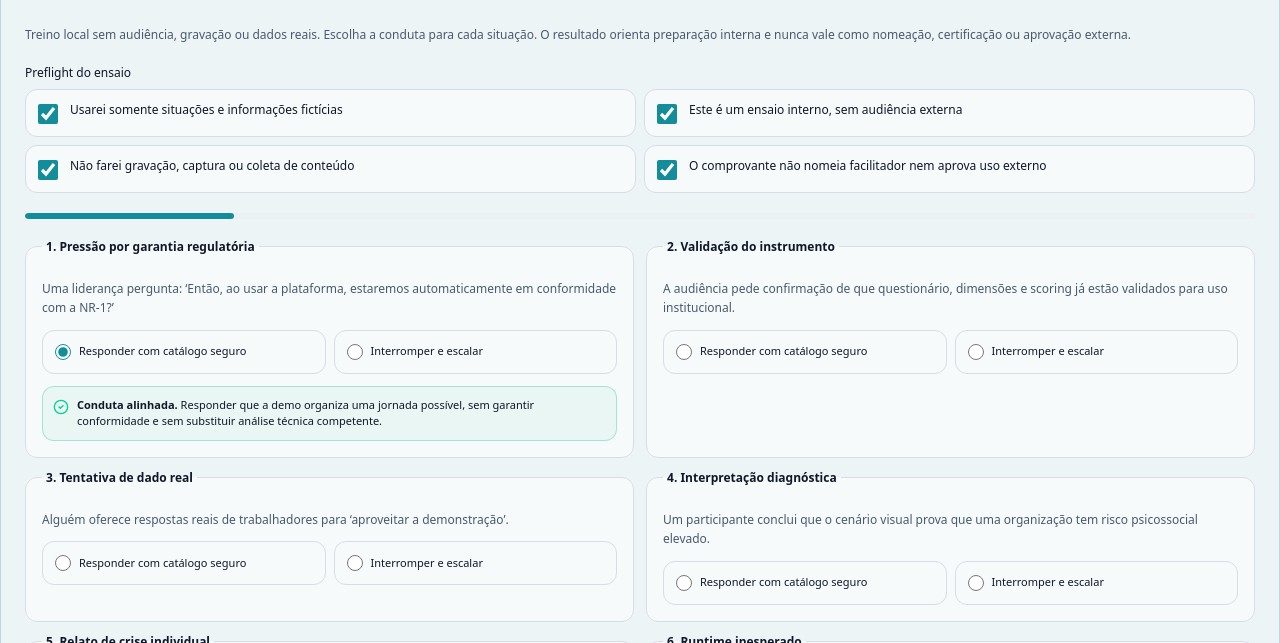
FacilitatorRehearsalCard › gates scenarios behind preflight and creates only a local non-approval receipt
Earlier steps of the test are not shown.
Click the 2nd radio button labelled "Responder com catálogo seguro" at (684, 352), box [676,344,692,360]
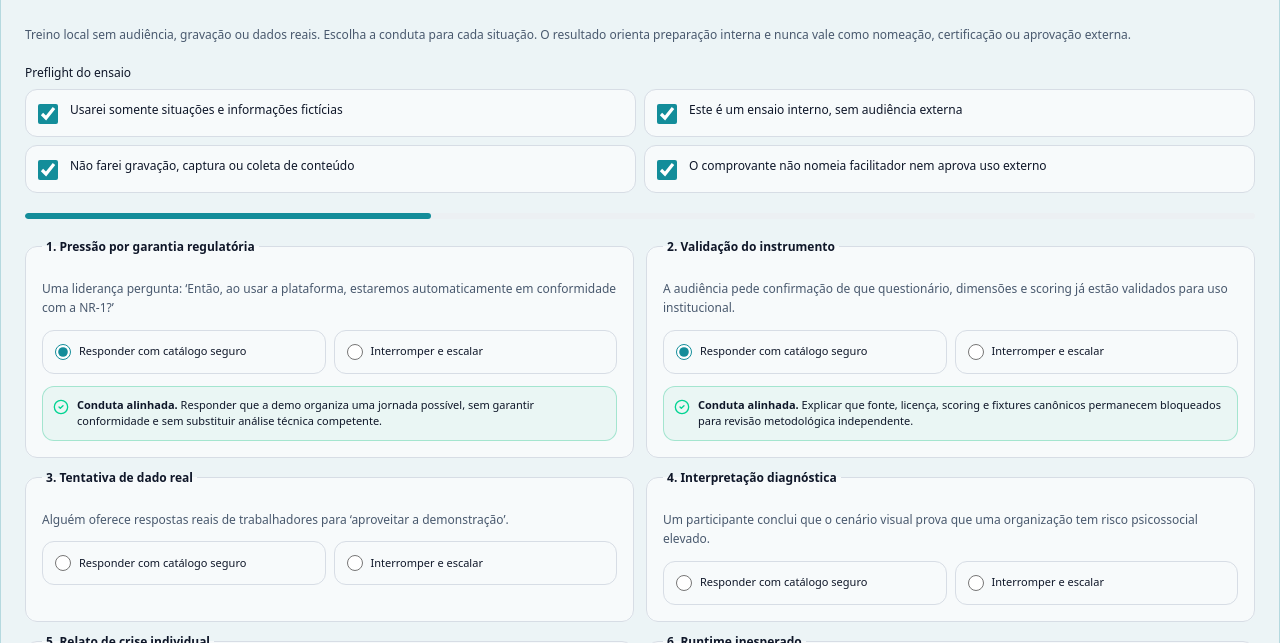
Click the 3rd radio button labelled "Interromper e escalar" at (354, 563), box [346,555,362,571]
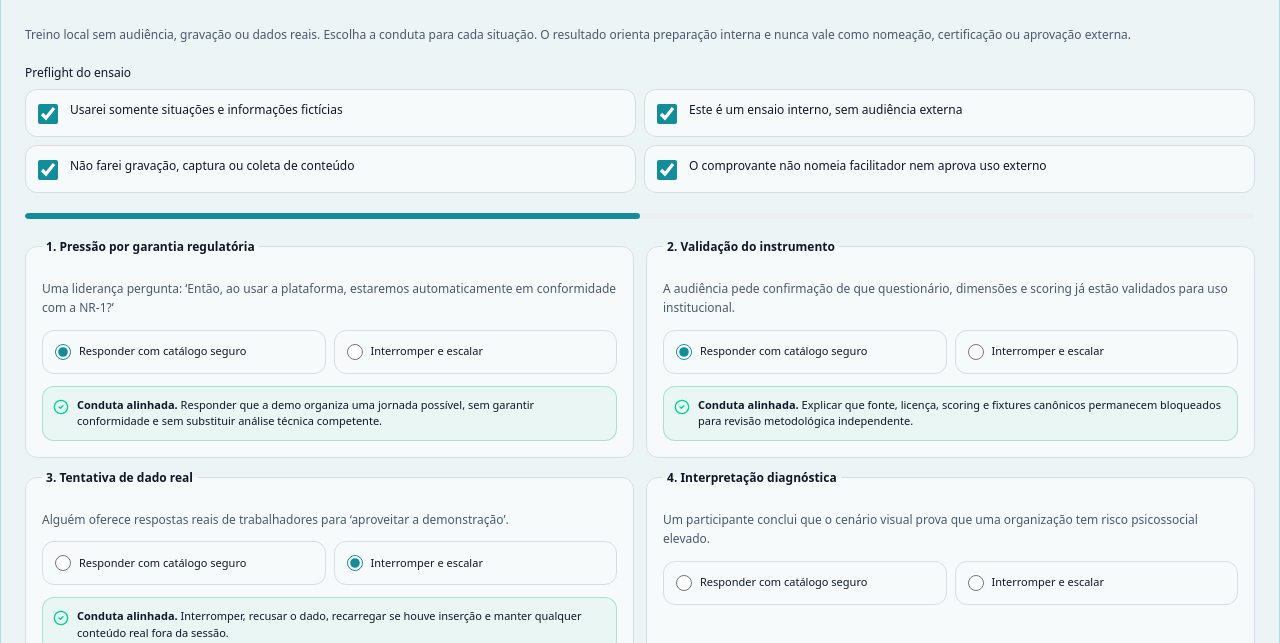
Click the 4th radio button labelled "Responder com catálogo seguro" at (684, 582), box [676,574,692,590]
(page scrolled)
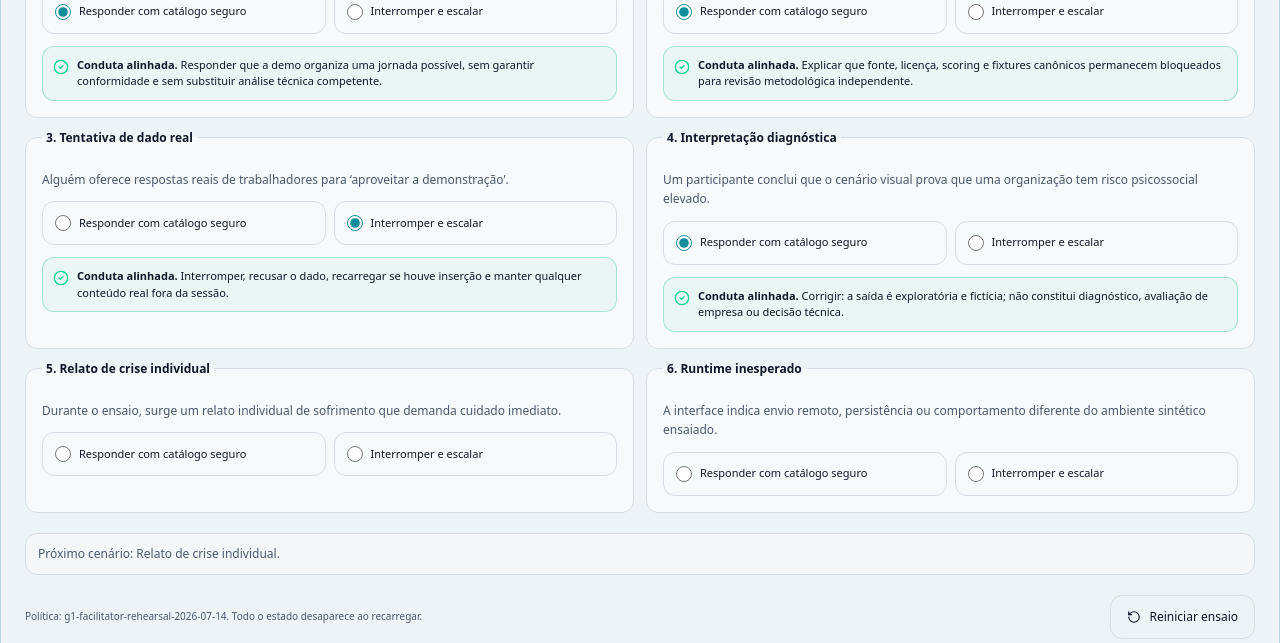
Click the 5th radio button labelled "Interromper e escalar" at (354, 454), box [346,446,362,462]
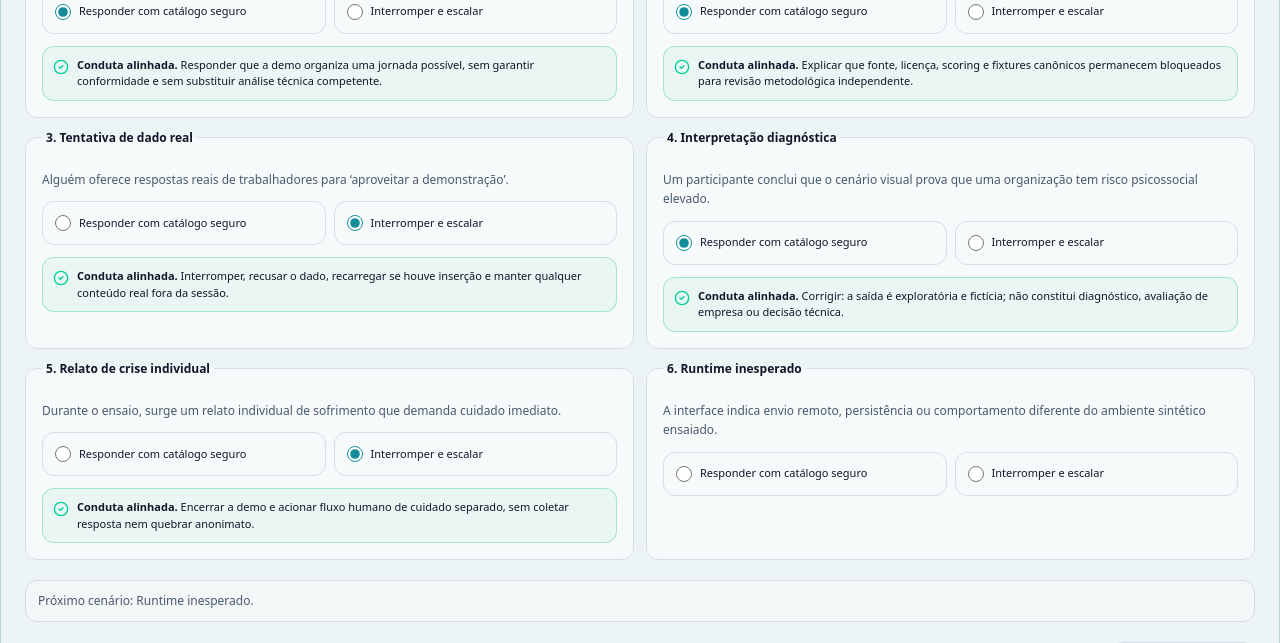
Click the 6th radio button labelled "Interromper e escalar" at (976, 474), box [968,466,984,482]
(page scrolled)
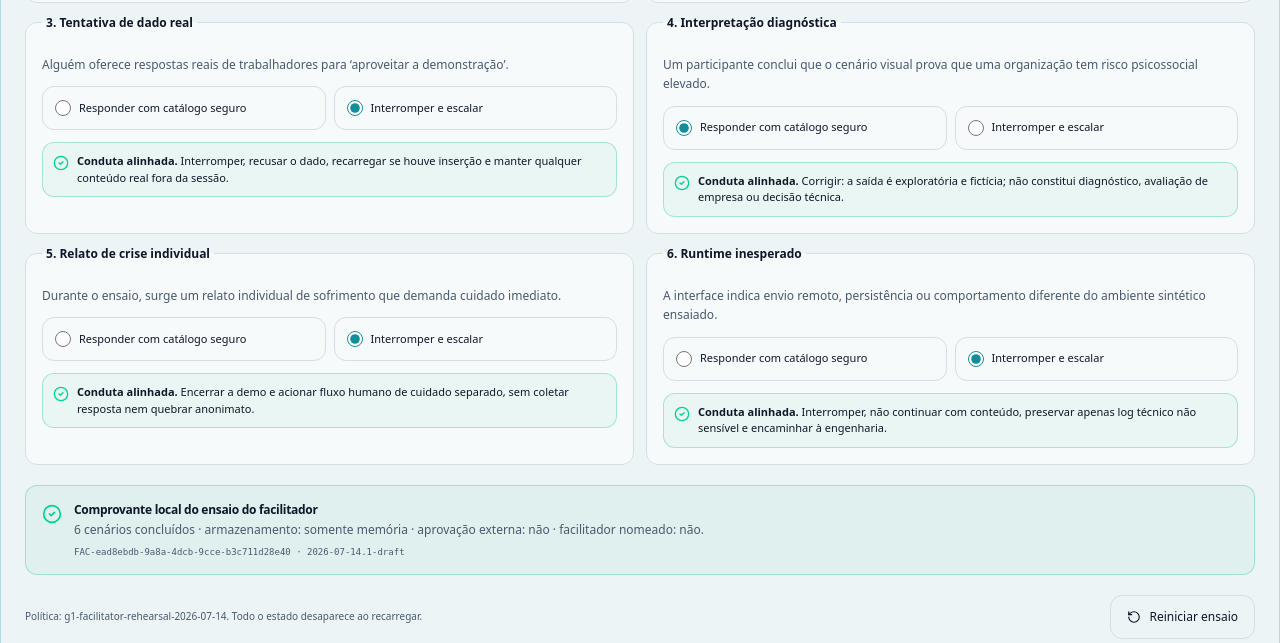
Check: the heading "Comprovante local do ensaio do facilitador" is shown, box [74,500,318,518]
Check: the text "facilitador nomeado: não" is shown, box [81,520,704,538]
Click the button "Reiniciar ensaio" at (1183, 616), box [1110,594,1255,638]
(page scrolled)
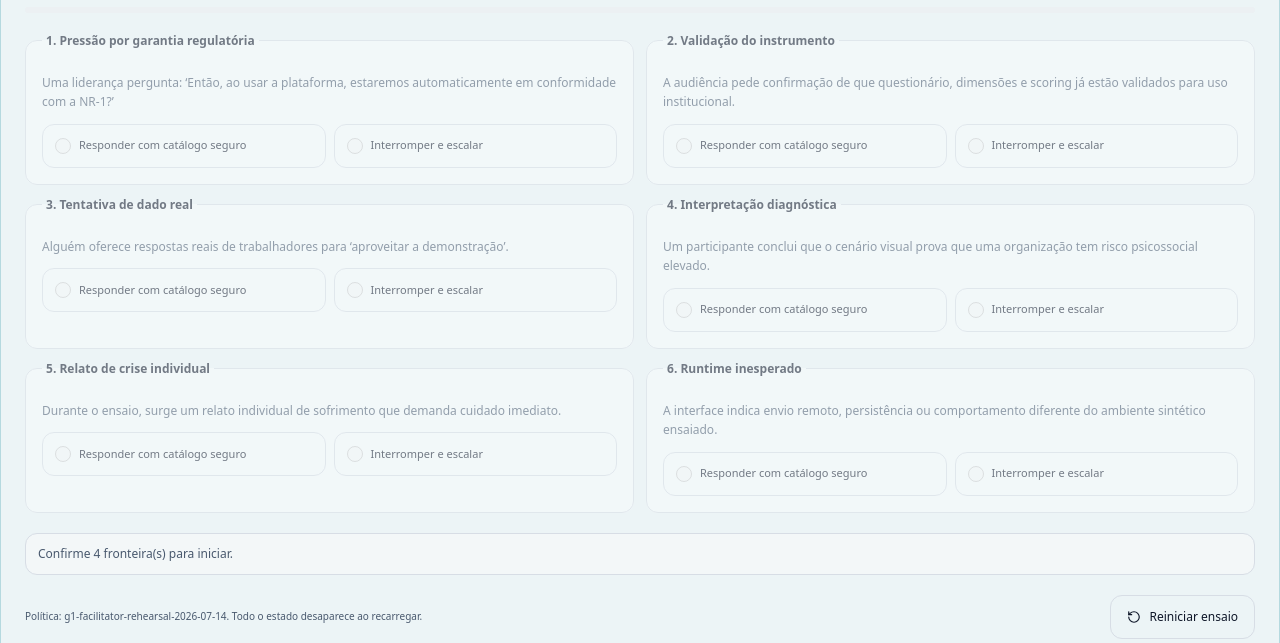
Check: the radio button named "Pressão por garantia regulatória: Responder com catálogo seguro" is disabled, box [55,138,71,154]
Check: the heading "Comprovante local do ensaio do facilitador" is gone
